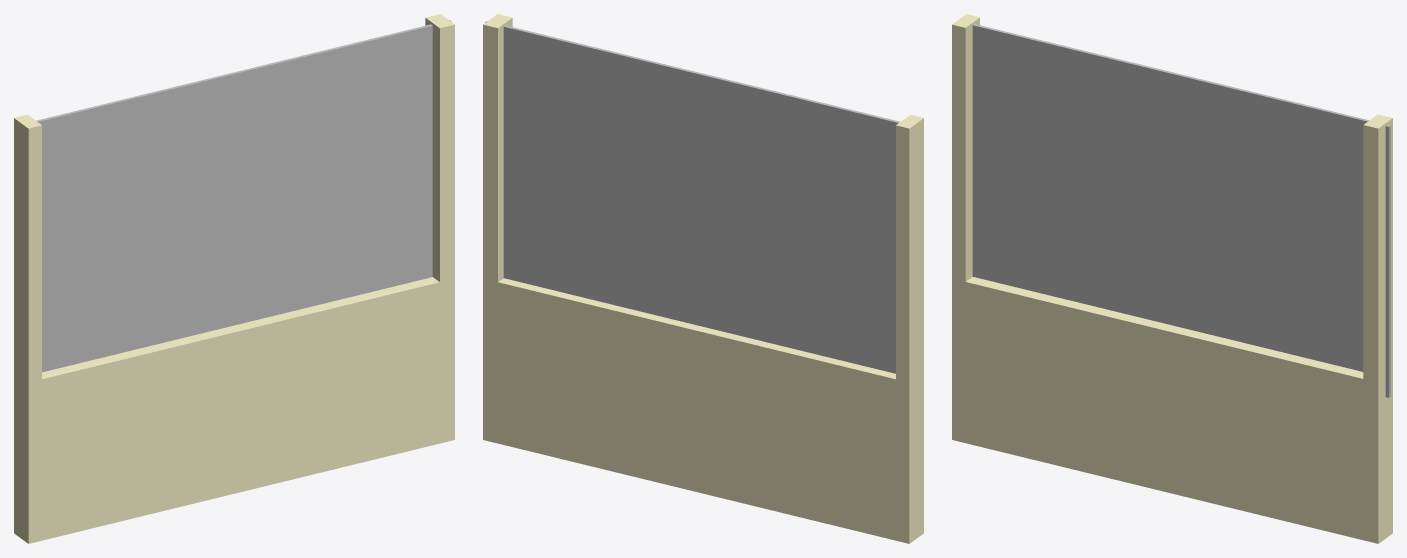
The model's file is fence_4.fbx.
3 views of the same model, side by side, from view 1: azimuth 30°, elevation 25°; view 2: azimuth 150°, elevation 25°; view 3: azimuth 330°, elevation 25° (orthographic).
Parts seen in each view (by area): view 1: Fence_4; view 2: Fence_4; view 3: Fence_4.
Boxes of the visible parts, box(x1,y1,x2,y2) form: Fence_4: box(14, 14, 454, 543); Fence_4: box(483, 14, 923, 543); Fence_4: box(952, 14, 1392, 543).
Bounding box in the file's own units: 3.3 × 3.04 × 0.1927.
